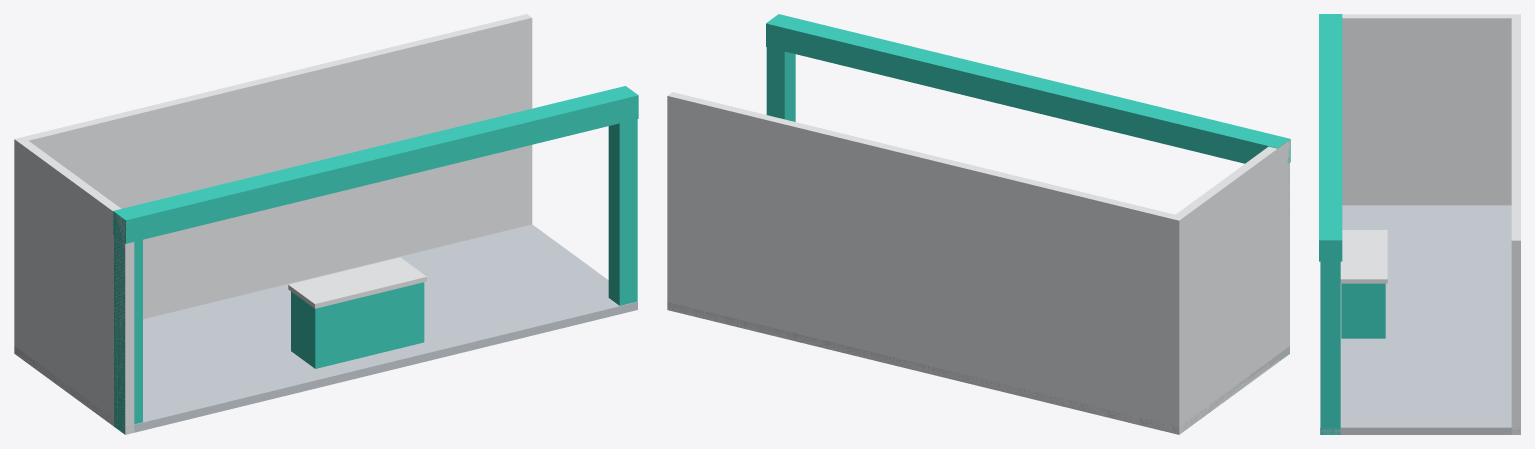
The picture shows the model from 3 angles, left to right: view 1: azimuth 30°, elevation 25°; view 2: azimuth 150°, elevation 25°; view 3: azimuth 270°, elevation 25°; orthographic projection. The views are drawn at different scales.
Visible parts, largest first — view 1: Exhibition Booth Concept; view 2: Exhibition Booth Concept; view 3: Exhibition Booth Concept.
Boxes of the visible parts, box(x1,y1,x2,y2) form: Exhibition Booth Concept: box(14, 14, 638, 434); Exhibition Booth Concept: box(667, 14, 1290, 434); Exhibition Booth Concept: box(1319, 14, 1520, 434).
Size of the model in its own units: 8 by 3.2 by 3.01.
